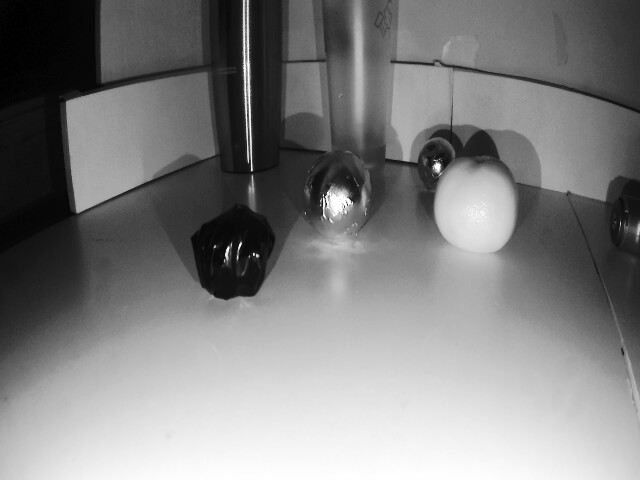black: (298, 146, 371, 242), (419, 135, 447, 196)
silver: (193, 204, 279, 300)
